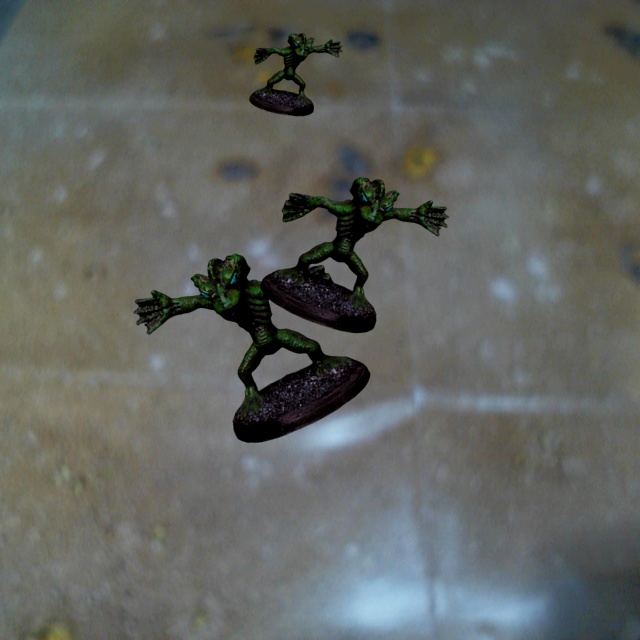pieza_juego: (133, 253, 369, 442), (260, 177, 448, 332), (249, 33, 342, 115)
